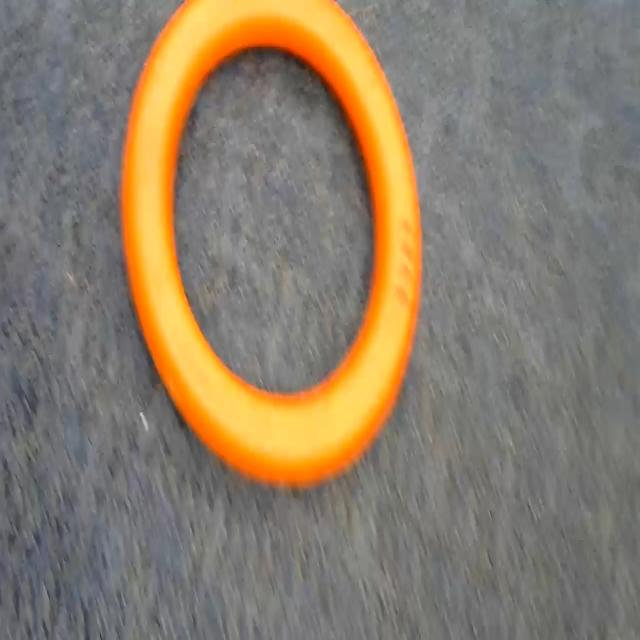note: (109, 0, 446, 500)
